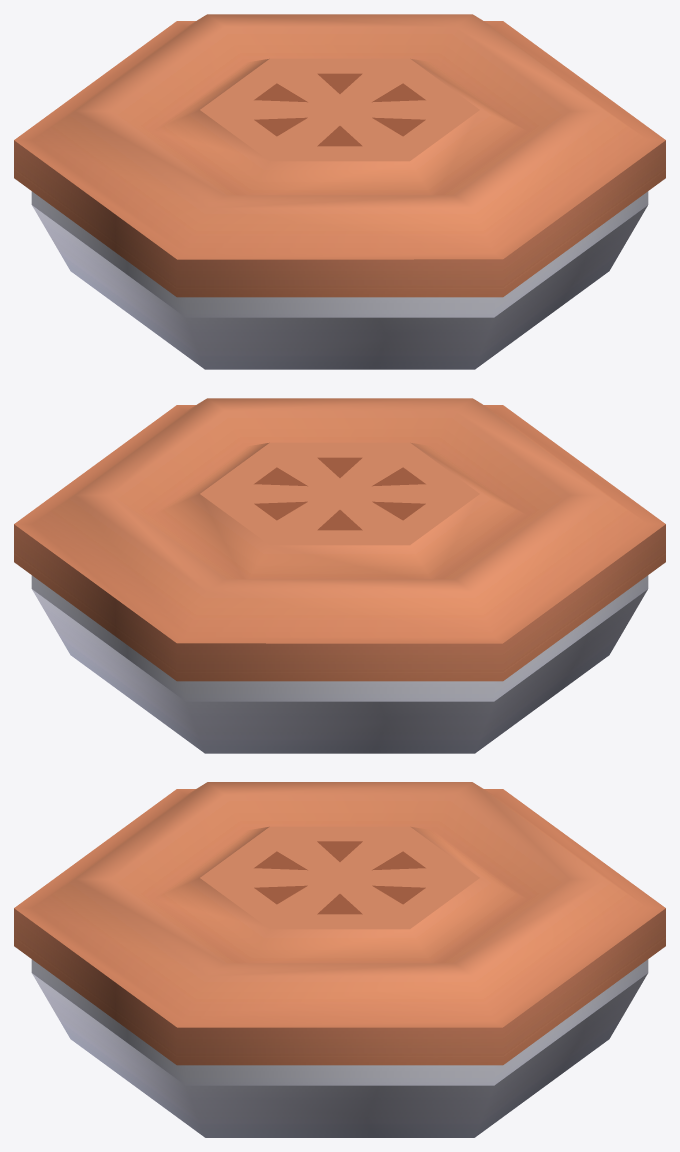
File: mincemeat-pie.glb
3 views of the same model, one above another, from view 1: azimuth 30°, elevation 25°; view 2: azimuth 150°, elevation 25°; view 3: azimuth 270°, elevation 25° (orthographic).
Visible parts, largest first — view 1: mincemeat-pie; view 2: mincemeat-pie; view 3: mincemeat-pie.
Boxes of the visible parts, x1,y1,x2,y2 form: mincemeat-pie: (14,14,665,369); mincemeat-pie: (14,398,665,753); mincemeat-pie: (14,782,665,1137).
Size of the model in its own units: 0.531 by 0.1673 by 0.6131.
Materials: 1 (1 with a texture image).
